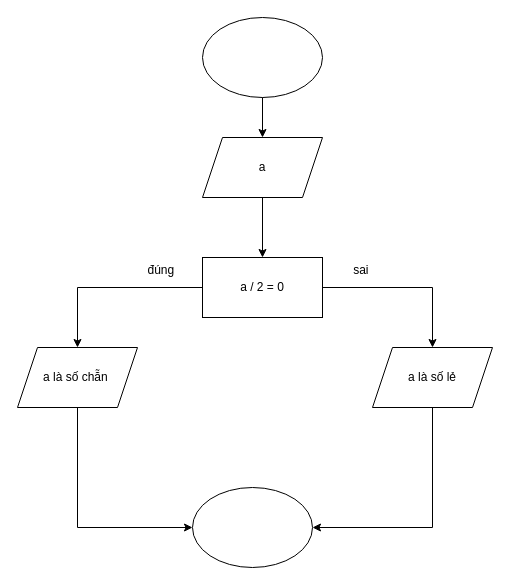
Image size: 510x585. Some labels were removed from this diagram. Each missing label, with the centre of its shape:
End: the point at 252,527
Start: the point at 262,57
